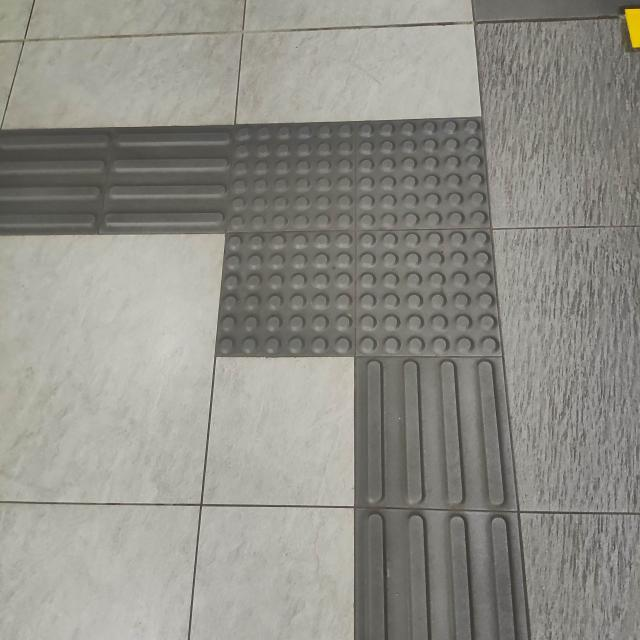kiri: (0, 93, 570, 428)
